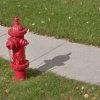Hydrant: (3, 7, 40, 86)
